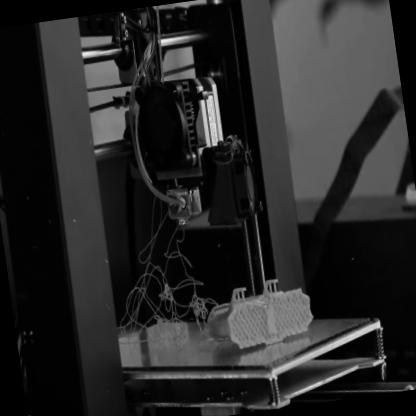fail: (112, 222, 218, 350)
